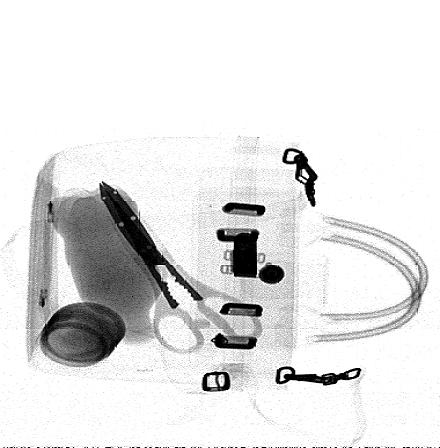Scissors: (95, 178, 265, 356)
